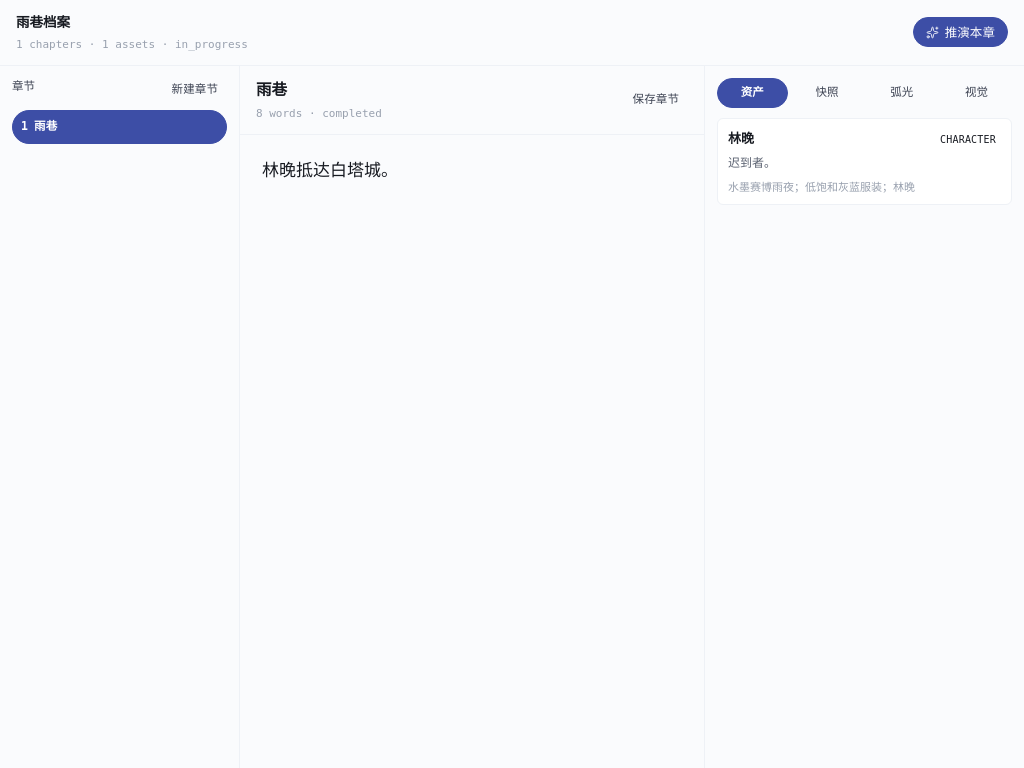
Test: StoryWorkbench › renders chapters, writing editor, assets, and starts progression
Check: the heading "雨巷档案" is shown, box [16,14,70,30]
Check: the button "1 雨巷" is shown, box [12,110,227,144]
Step 1. Click the button "推演本章" → click(960, 32), box [913,18,1008,48]
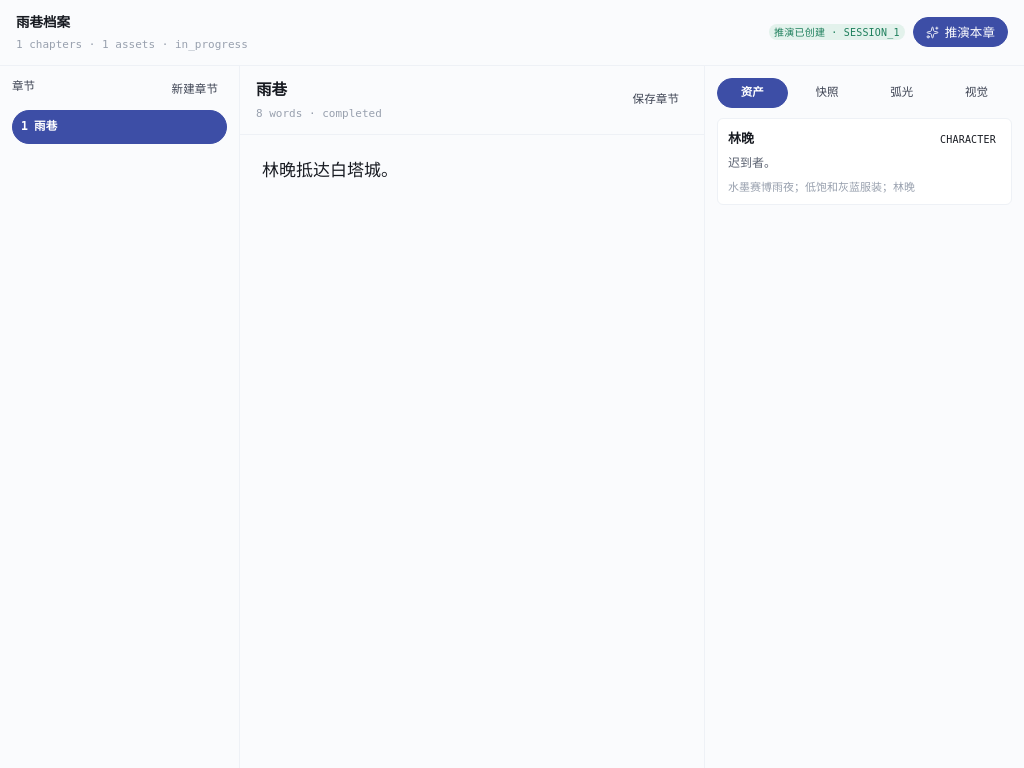
Check: the text "推演已创建 · session_1" is shown, box [769,24,905,40]
Step 2. Click the tab "视觉" → click(977, 93), box [941,78,1012,108]
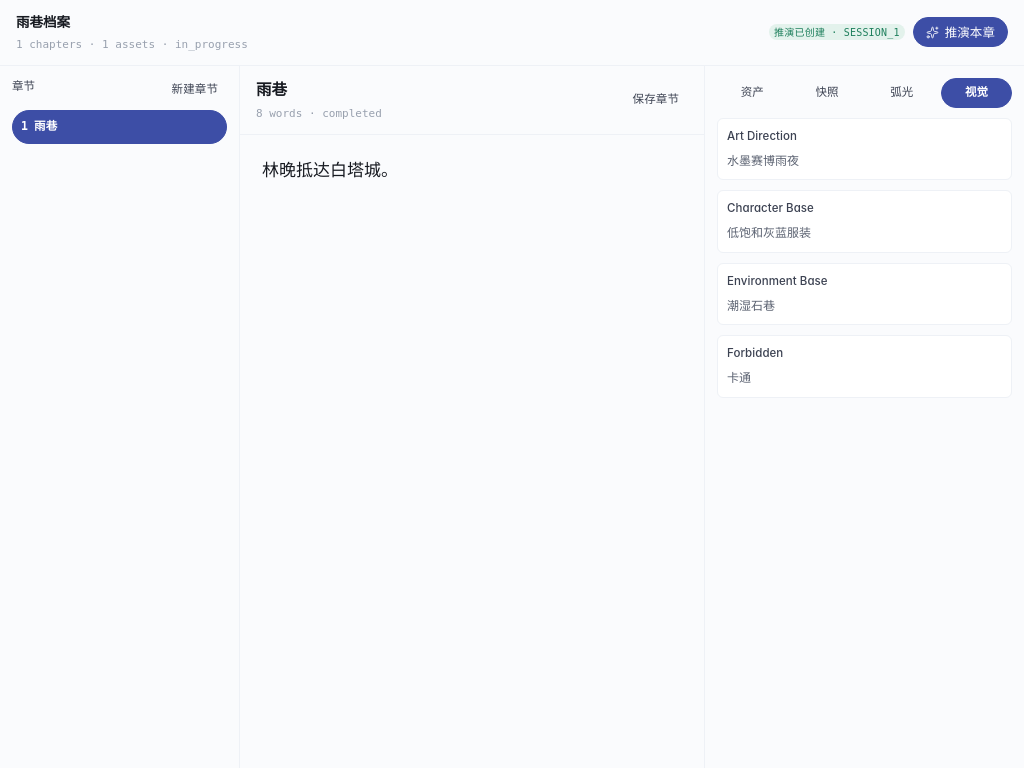
Check: the text "水墨赛博雨夜" is shown, box [727,153,799,168]
Step 3. Click the tab "快照" → click(827, 93), box [792,78,863,108]
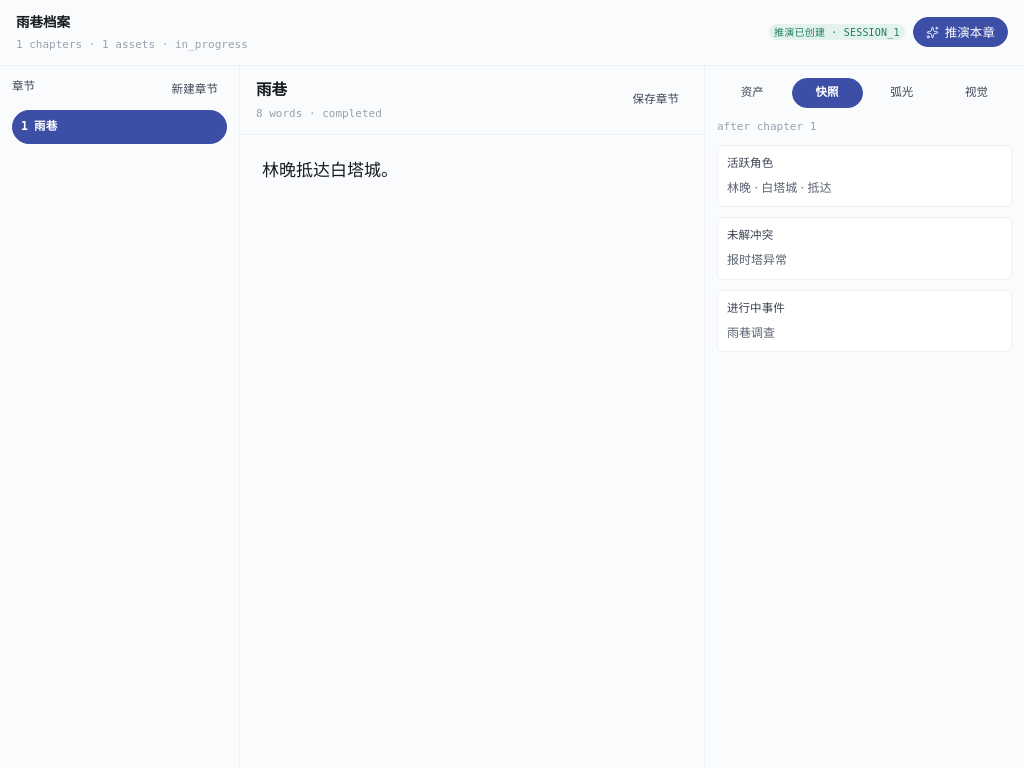
Check: the text "林晚 · 白塔城 · 抵达" is shown, box [727,180,831,195]
Step 4. Click the tab "弧光" → click(902, 93), box [866,78,937,108]
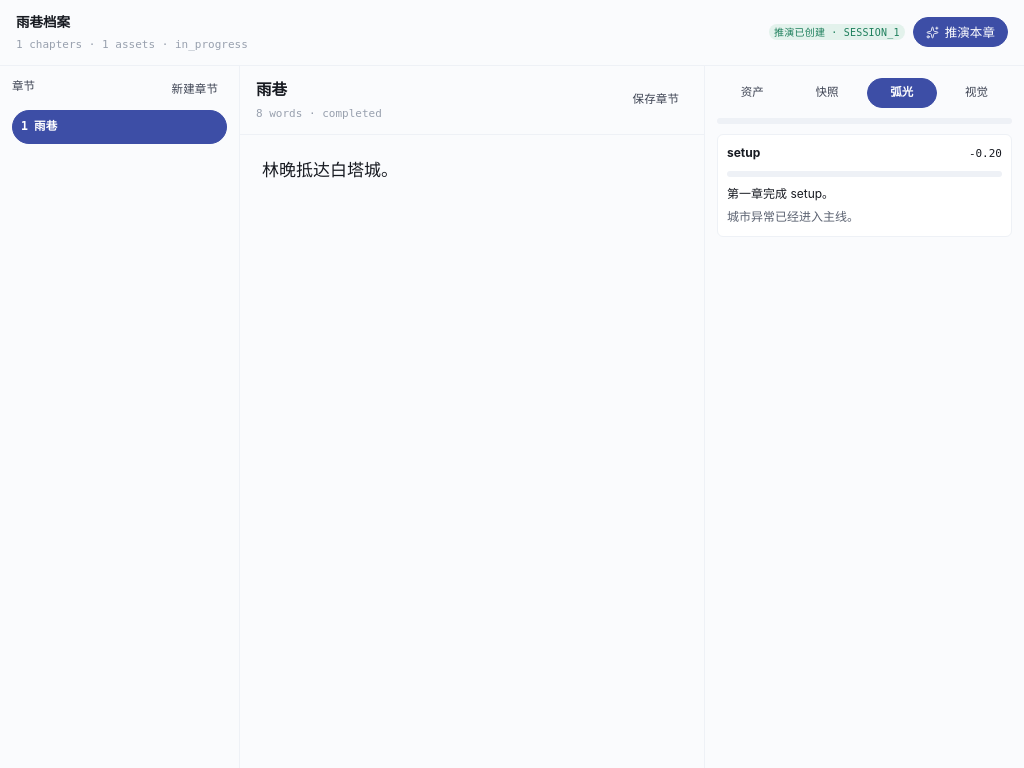
Check: the text "setup" is shown, box [727,144,760,163]
Check: the text "第一章完成 setup。" is shown, box [727,186,834,201]
